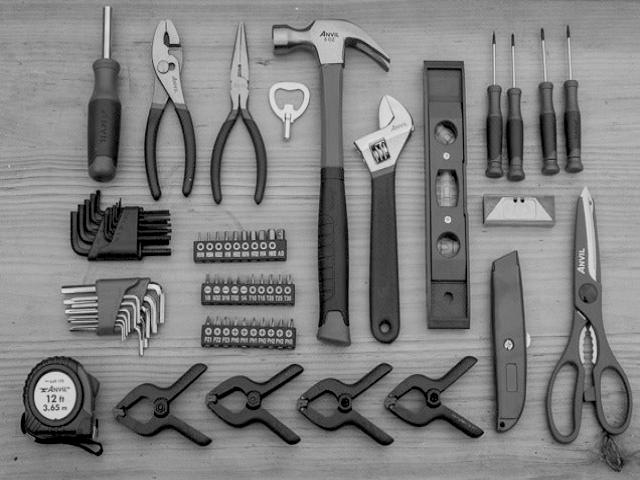Adjustable spanner: (355, 95, 414, 342)
Hammer: (272, 20, 390, 345)
Needle-nose pliers: (211, 21, 266, 204)
Pliers: (145, 20, 196, 199)
Screwdriver: (88, 6, 121, 181), (539, 28, 560, 174), (564, 25, 584, 173), (485, 31, 501, 178), (508, 34, 524, 180)
Tape measure: (21, 357, 102, 456)
Utility knife: (491, 251, 530, 432)
